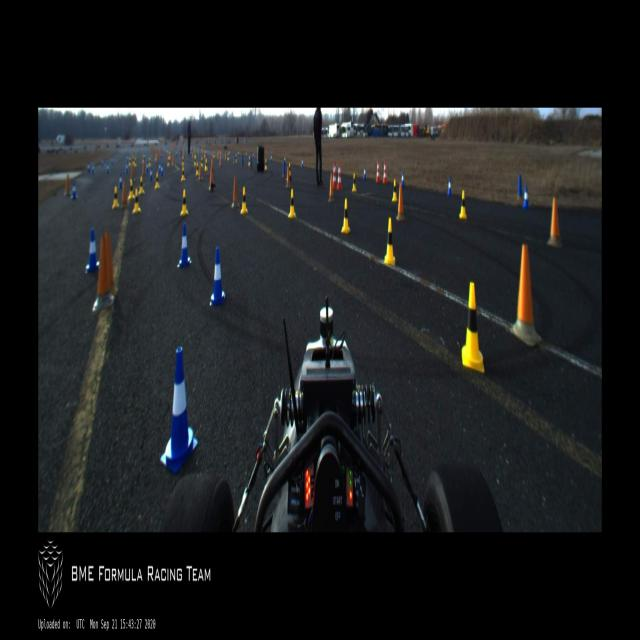blue_cone: (160, 344, 198, 474), (210, 246, 226, 308), (85, 228, 101, 272), (177, 223, 192, 267), (523, 185, 529, 210), (447, 176, 453, 199), (72, 182, 77, 200), (142, 159, 146, 176), (149, 166, 153, 182), (401, 171, 405, 186), (219, 150, 223, 165), (363, 166, 367, 179), (125, 160, 129, 173), (119, 171, 122, 186), (86, 162, 90, 173), (92, 160, 95, 174), (301, 157, 304, 168), (270, 153, 273, 164), (106, 163, 109, 174), (161, 163, 164, 174), (101, 158, 104, 167), (158, 162, 160, 172), (146, 162, 148, 172), (111, 157, 113, 166), (160, 151, 162, 158)
large_orange_cone: (337, 162, 342, 190), (332, 162, 337, 189), (383, 160, 387, 183), (376, 160, 380, 182)
unknown_cone: (510, 244, 542, 349), (92, 232, 116, 312), (547, 195, 562, 248), (106, 232, 117, 293), (396, 183, 406, 221), (232, 176, 240, 207), (121, 178, 128, 207), (328, 175, 335, 202), (516, 173, 523, 199), (208, 167, 215, 192), (64, 176, 71, 196), (286, 167, 291, 186), (210, 157, 215, 172), (131, 165, 135, 181), (241, 152, 244, 168), (282, 160, 285, 175), (250, 156, 253, 170), (227, 151, 230, 162), (233, 152, 235, 166), (156, 148, 158, 162), (173, 153, 175, 164)
yellow_cone: (462, 282, 484, 373), (384, 217, 395, 265), (341, 198, 351, 232), (459, 188, 468, 222), (287, 188, 297, 218), (180, 189, 188, 217), (112, 184, 120, 211), (133, 190, 141, 216), (241, 187, 248, 213), (128, 178, 135, 202), (391, 178, 398, 202), (352, 172, 357, 192), (139, 176, 144, 195), (155, 172, 160, 191), (181, 165, 186, 183), (195, 161, 200, 177), (264, 155, 268, 170), (205, 158, 208, 173), (200, 157, 204, 168), (167, 157, 170, 168), (248, 155, 251, 166), (289, 163, 291, 179), (132, 154, 134, 166), (194, 154, 196, 165), (134, 156, 136, 166), (182, 156, 184, 166), (129, 157, 131, 166), (213, 149, 215, 158), (235, 153, 237, 162), (148, 158, 150, 166)
